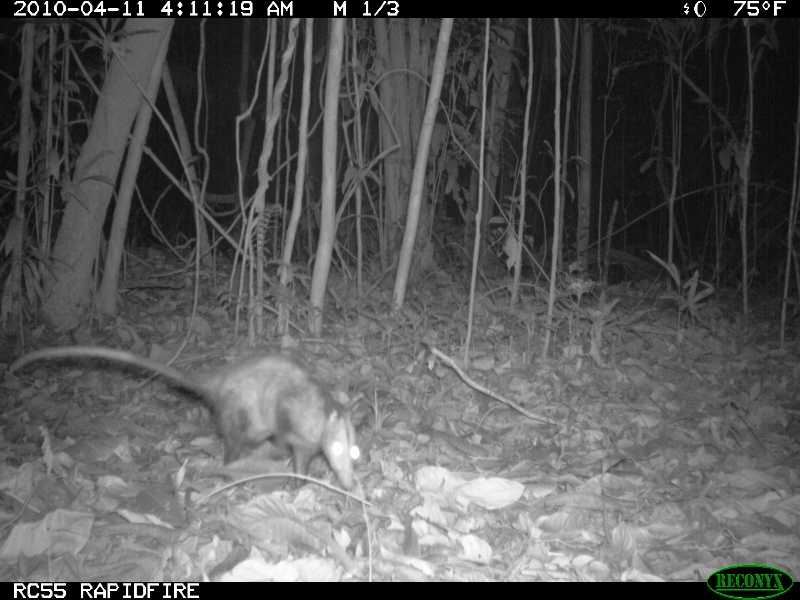opossum: (7, 334, 367, 497)
